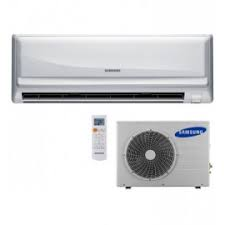ac: (8, 32, 217, 109)
